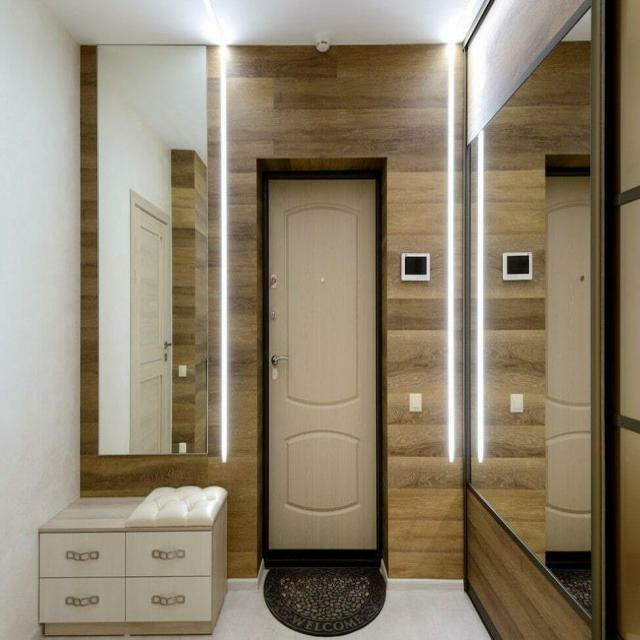close: (263, 174, 385, 558)
